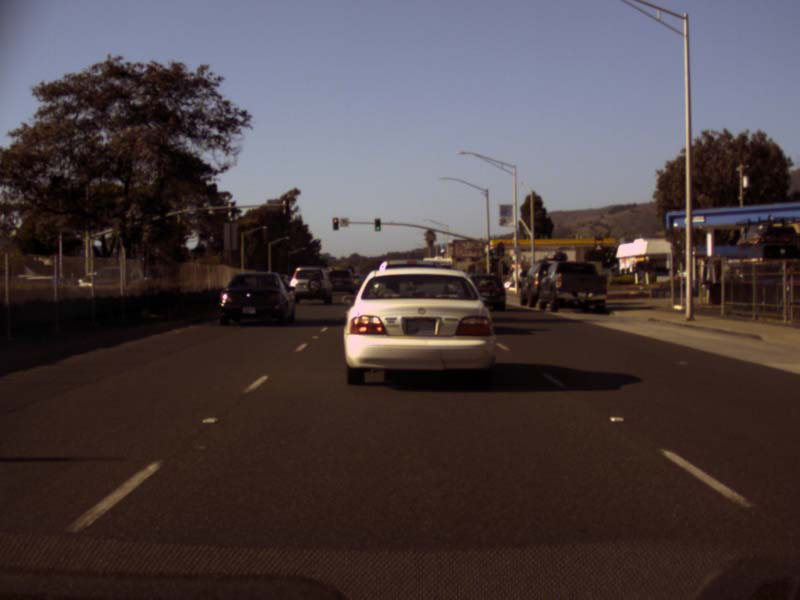Green: (374, 218, 381, 231), (498, 244, 503, 255), (488, 249, 492, 260)
Red: (332, 217, 339, 231)
